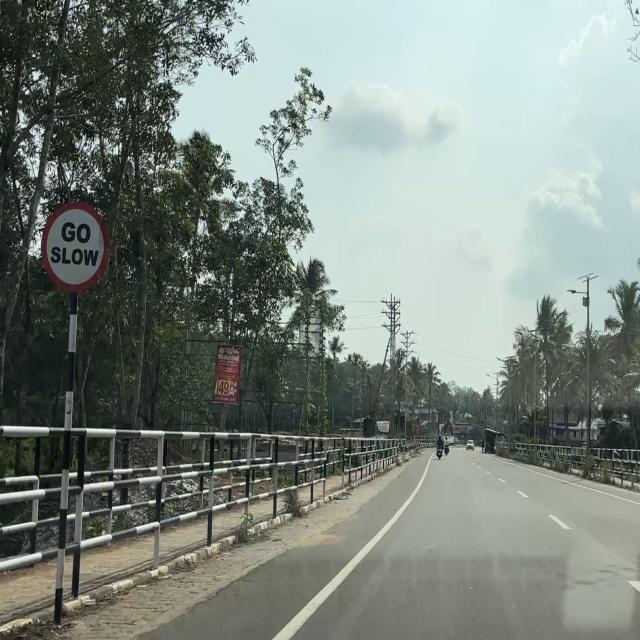GO_SLOW: (40, 200, 110, 296)
